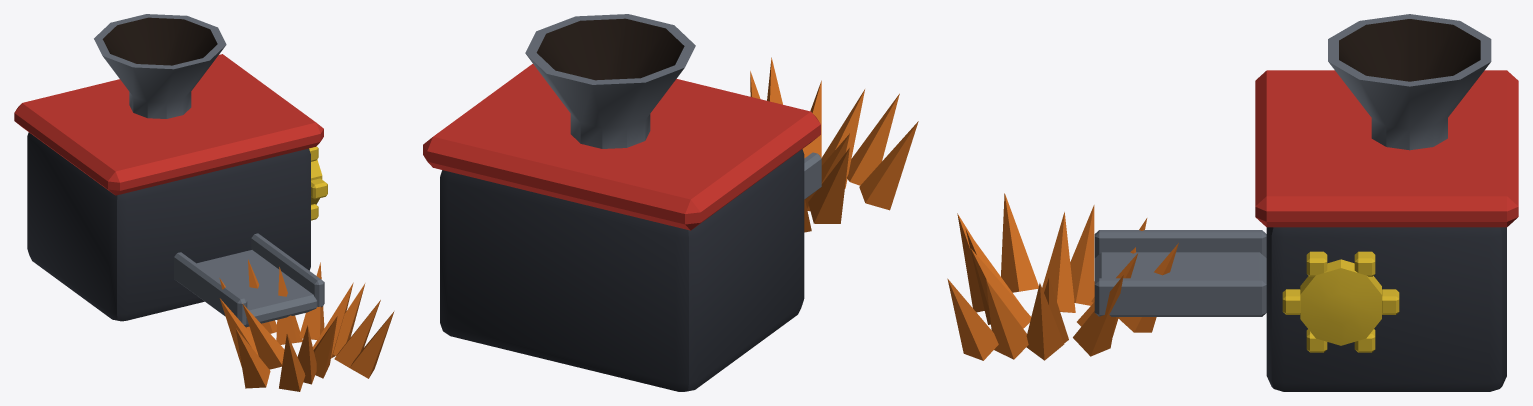
The picture shows the model from 3 angles, left to right: view 1: azimuth 30°, elevation 25°; view 2: azimuth 150°, elevation 25°; view 3: azimuth 270°, elevation 25°; orthographic projection. The views are drawn at different scales.
Parts seen in each view (by area): view 1: espinhos_0_base, espinhos_1_torreta; view 2: espinhos_0_base, espinhos_1_torreta; view 3: espinhos_0_base, espinhos_1_torreta.
Part boxes in pixels (x1,y1,x2,y2): espinhos_0_base: (14,14,394,391); espinhos_1_torreta: (174,233,324,327); espinhos_0_base: (423,14,918,391); espinhos_1_torreta: (804,152,821,199); espinhos_0_base: (947,14,1518,391); espinhos_1_torreta: (1094,230,1266,316).
Size of the model in its own units: 0.596 by 0.55 by 0.9975.
